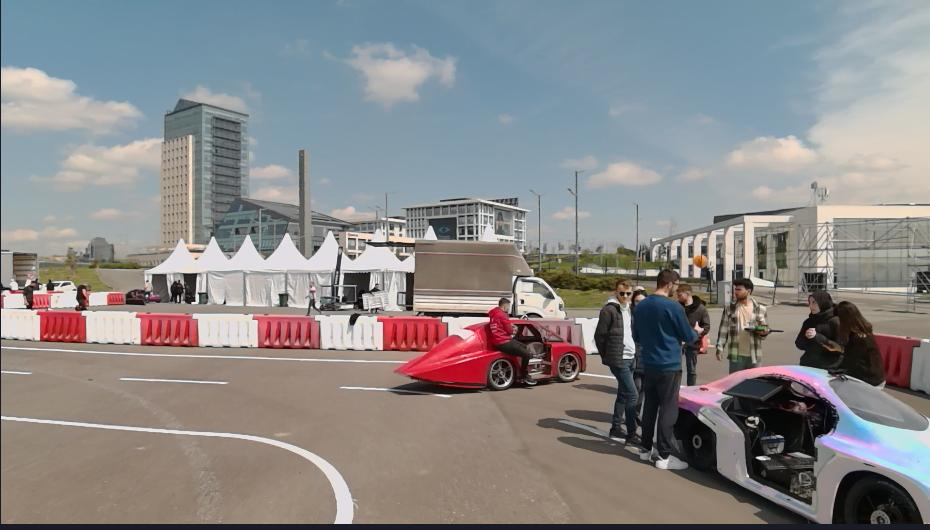nesne: (0, 341, 832, 526), (0, 366, 830, 524), (674, 364, 928, 521), (0, 413, 353, 523), (0, 308, 488, 349), (394, 299, 587, 391), (633, 267, 706, 468), (410, 238, 567, 322), (791, 287, 887, 387), (592, 280, 644, 457), (1, 344, 405, 362), (714, 274, 784, 370), (487, 296, 537, 384), (674, 283, 711, 385), (873, 332, 928, 396), (320, 241, 359, 309), (255, 312, 320, 348), (875, 333, 913, 392), (382, 315, 446, 349), (323, 317, 384, 352), (137, 310, 199, 343), (197, 313, 256, 346), (84, 311, 139, 343), (0, 251, 39, 290), (38, 310, 85, 340), (113, 374, 230, 386), (0, 307, 39, 341), (338, 384, 453, 395), (908, 339, 928, 389), (540, 322, 583, 345), (362, 280, 389, 312), (448, 314, 488, 334), (580, 320, 598, 356), (304, 279, 322, 314), (88, 288, 126, 304), (51, 290, 77, 307), (128, 289, 159, 303), (630, 284, 646, 311), (20, 278, 35, 306), (168, 275, 184, 301), (2, 292, 24, 308), (76, 282, 89, 309), (582, 370, 619, 379), (32, 291, 51, 307), (89, 293, 109, 305), (343, 311, 359, 326), (0, 368, 33, 375), (144, 277, 152, 301), (107, 292, 124, 303), (196, 289, 208, 304), (278, 291, 288, 308), (55, 281, 76, 289), (8, 276, 20, 289), (44, 278, 54, 290)
